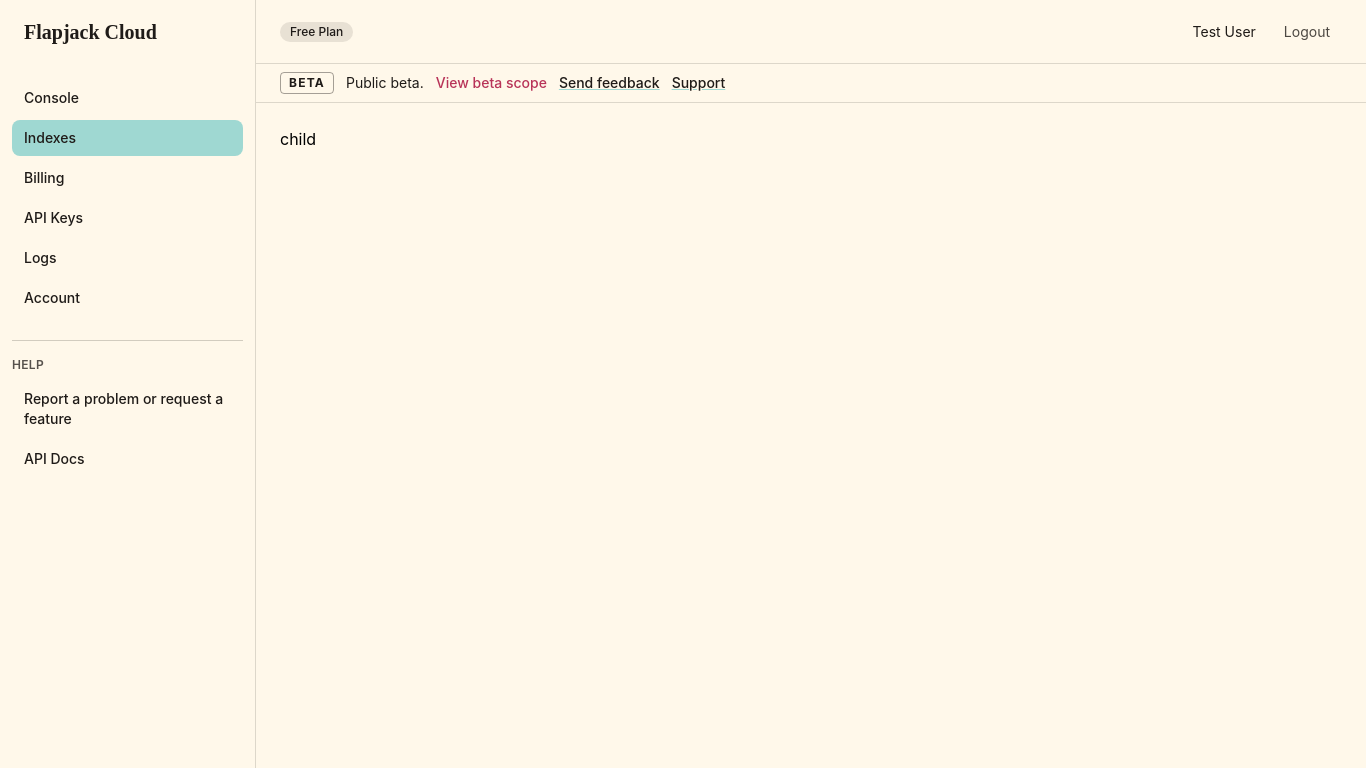
Dashboard support routing › exposes one complete support-routing affordance in the desktop Help section
The image size is (1366, 768).
Click the button "Report a problem or request a feature": (128, 409) [24,389,231,429]
(page scrolled)
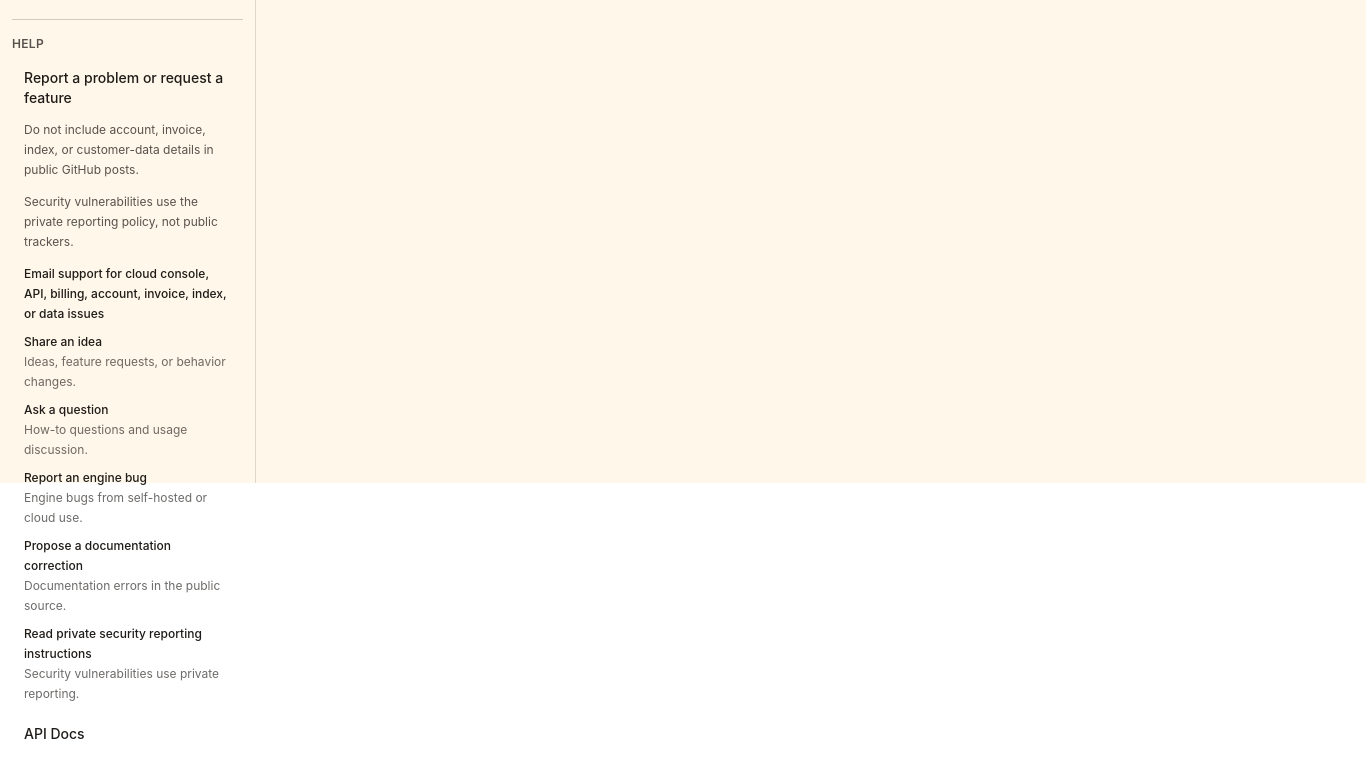
Check: the element with test id "dashboard-nav-desktop" shows "Do not include account, invoice, index, or customer-data details in public GitHub posts.", box [24,122,214,177]
Check: the element with test id "dashboard-nav-desktop" shows "Security vulnerabilities use the private reporting policy, not public trackers.", box [24,194,218,249]
